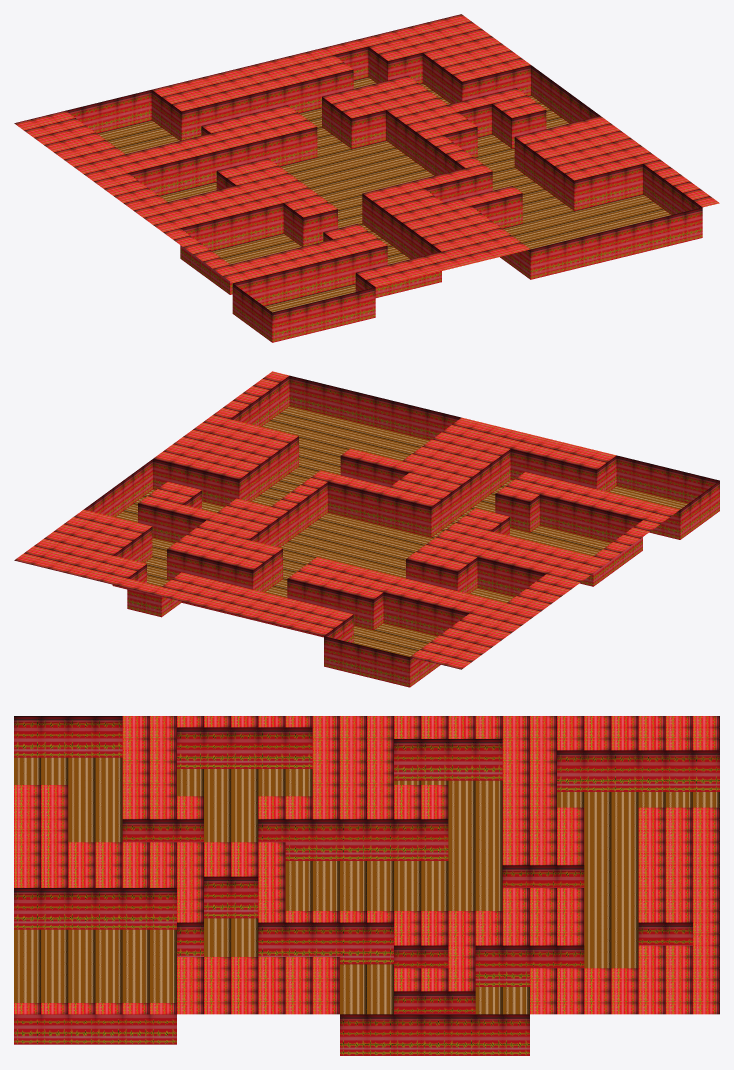
The model's file is LEVEL01.obj.
The picture shows the model from 3 angles, top to bottom: view 1: azimuth 30°, elevation 25°; view 2: azimuth 150°, elevation 25°; view 3: azimuth 270°, elevation 25°; orthographic projection. The views are drawn at different scales.
Visible parts, largest first — view 1: Cube; view 2: Cube; view 3: Cube.
Part boxes in pixels (<box>): Cube: <box>14,14,719,342</box>; Cube: <box>14,371,719,687</box>; Cube: <box>14,716,719,1055</box>.
Size of the model in its own units: 200 by 13 by 200.
